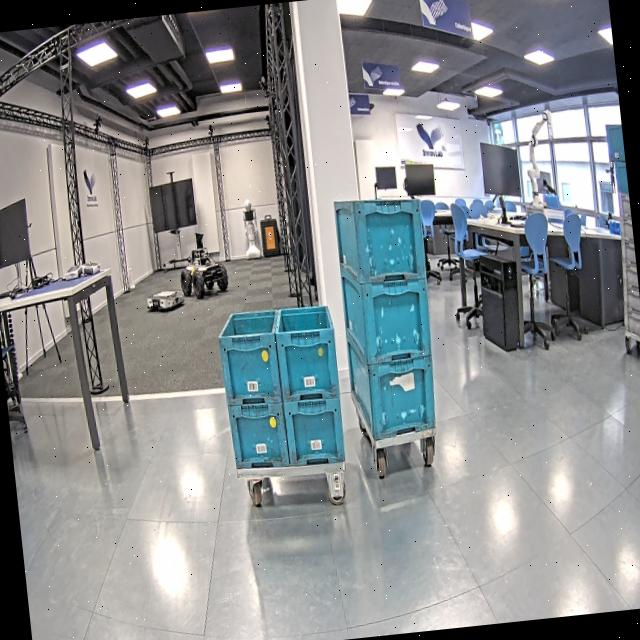BoxB4: (334, 192, 426, 288), (342, 276, 434, 362), (350, 353, 438, 437)
BoxB8: (274, 303, 342, 401), (216, 312, 284, 406), (284, 397, 346, 467), (227, 402, 289, 468)
